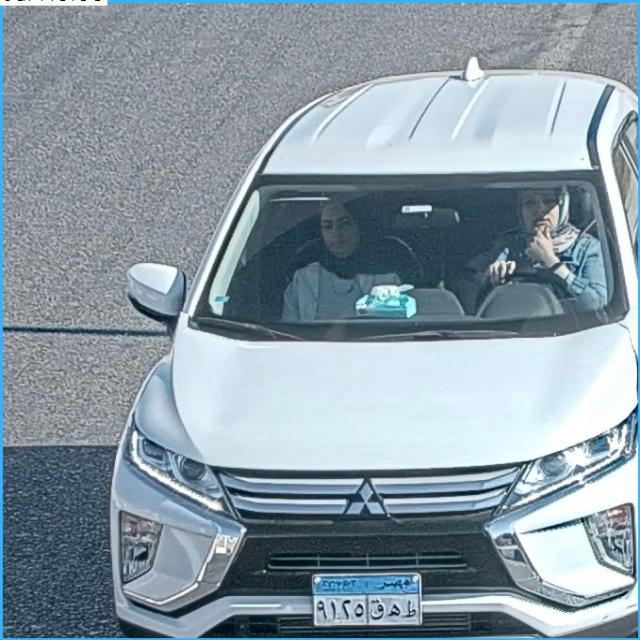windshield: (207, 176, 612, 324)
